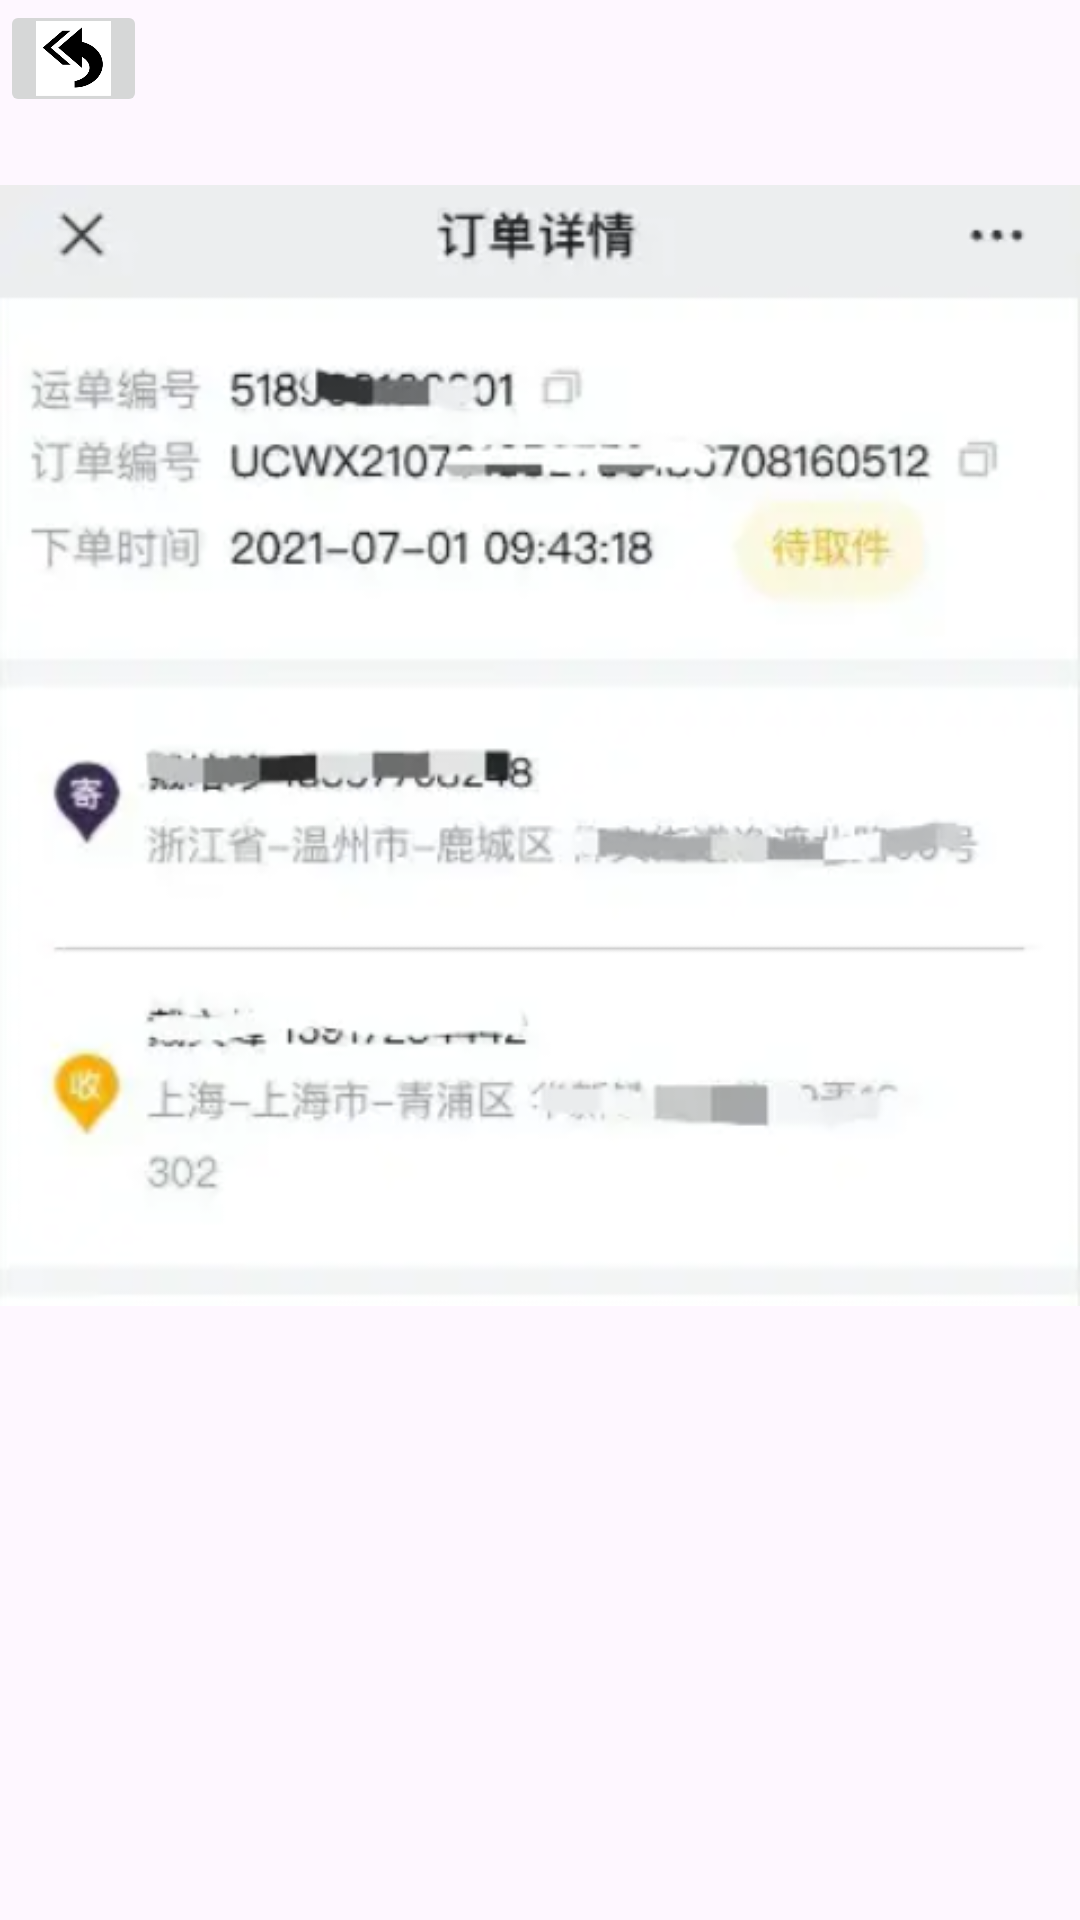

Point at icon controls on the screen. Image size 1080 x 1920, points as point (x, y).
back: point (73, 58)
